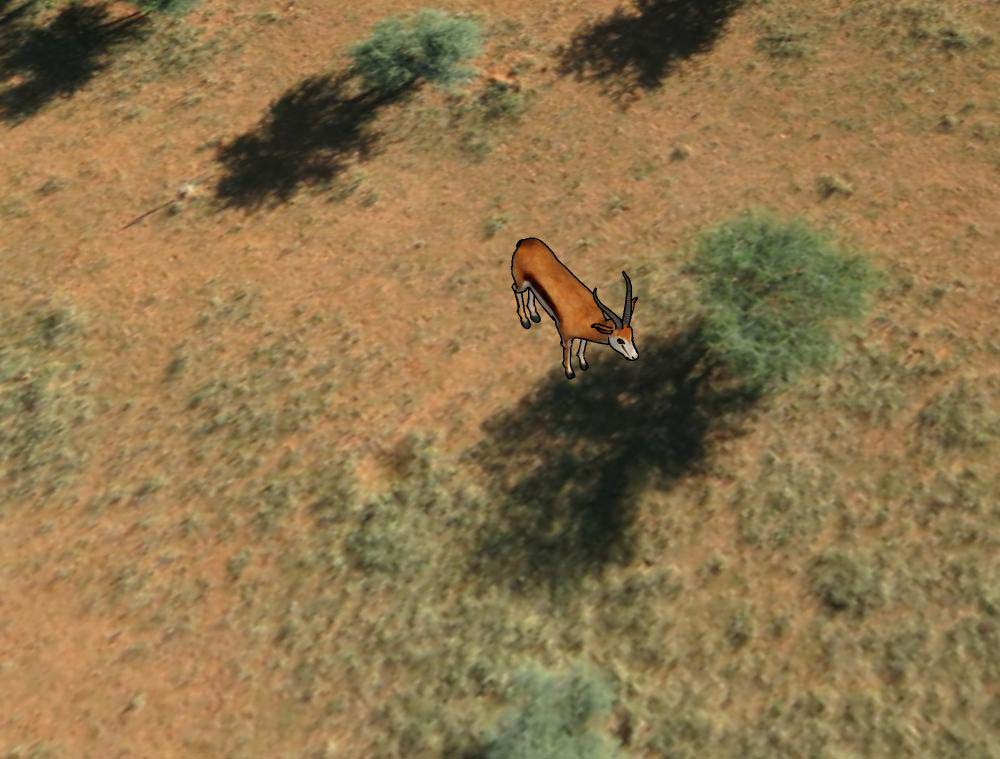springbok: (507, 226, 643, 384)
